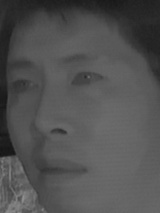eye: (67, 69, 106, 92), (6, 76, 40, 97)
mouth: (32, 153, 88, 187)
